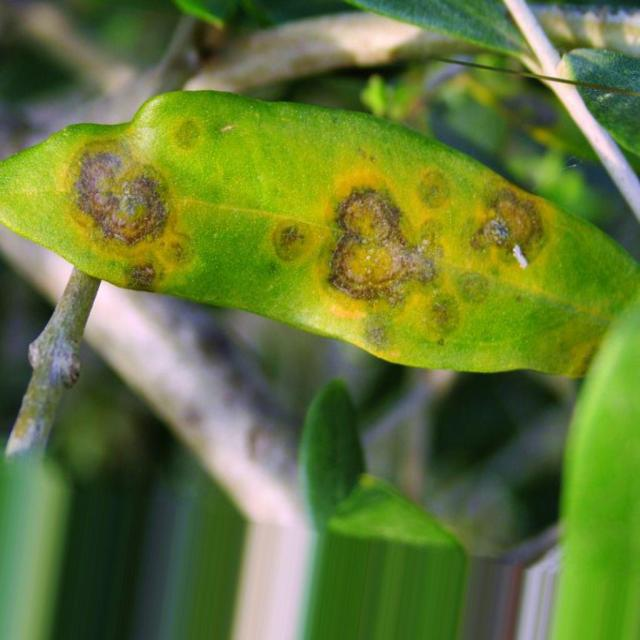Peacock Eye: (0, 93, 614, 374)
